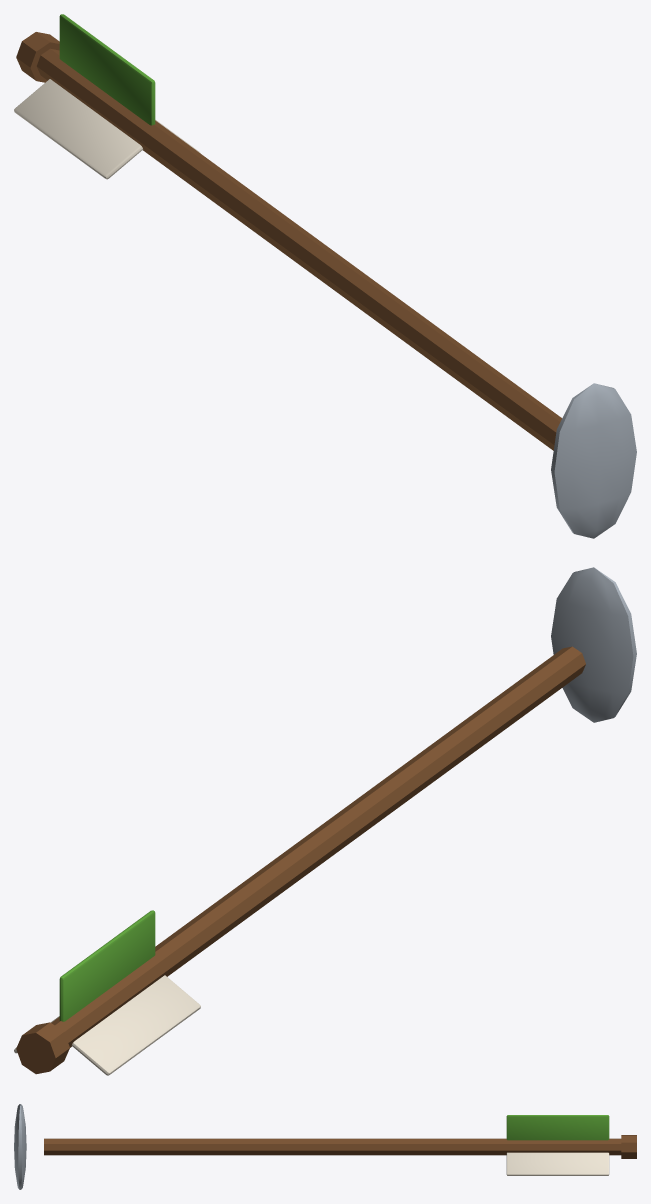
Rendered from efekt_strzala.glb.
The picture shows the model from 3 angles, top to bottom: view 1: azimuth 30°, elevation 25°; view 2: azimuth 150°, elevation 25°; view 3: azimuth 270°, elevation 25°; orthographic projection. The views are drawn at different scales.
Parts seen in each view (by area): view 1: efekt_strzala; view 2: efekt_strzala; view 3: efekt_strzala.
Boxes of the visible parts, x1,y1,x2,y2 form: efekt_strzala: (14, 14, 636, 538); efekt_strzala: (14, 567, 636, 1075); efekt_strzala: (14, 1104, 636, 1189).
Size of the model in its own units: 0.0775 by 0.12 by 0.788.
